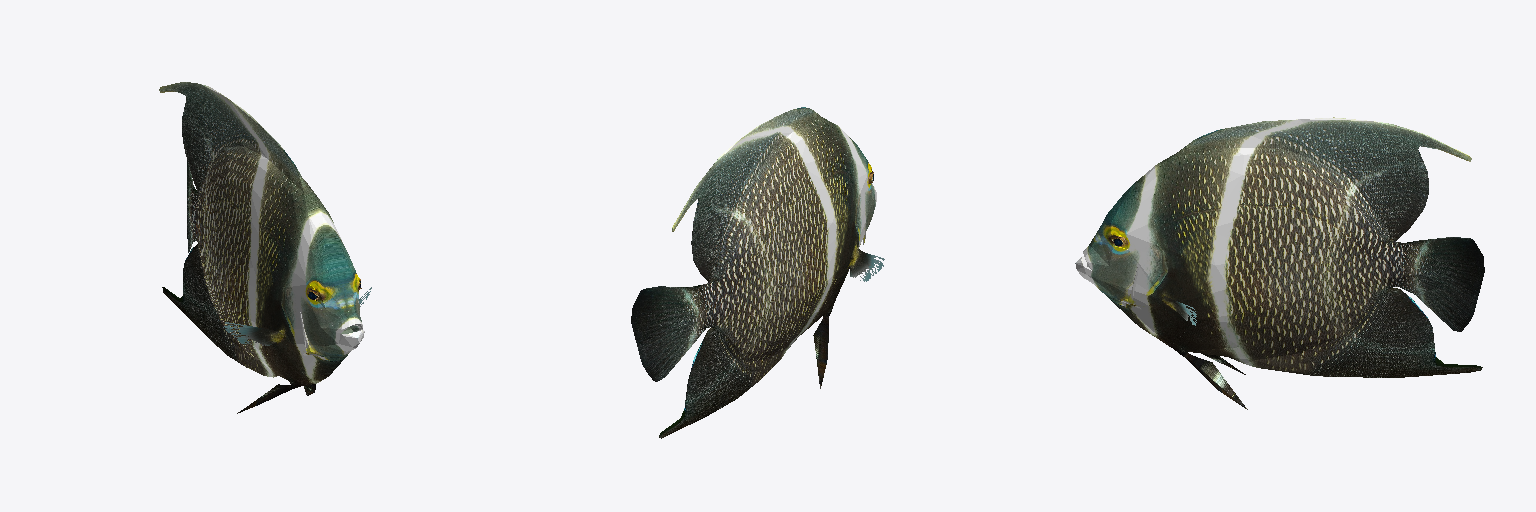
3 renders of one model, left to right at view 1: azimuth 30°, elevation 25°; view 2: azimuth 150°, elevation 25°; view 3: azimuth 270°, elevation 25°, orthographic.
Visible parts, largest first — view 1: Pomacanthus-paru; view 2: Pomacanthus-paru; view 3: Pomacanthus-paru.
Boxes of the visible parts, <box> form: Pomacanthus-paru: <box>159,82,371,413</box>; Pomacanthus-paru: <box>631,107,884,438</box>; Pomacanthus-paru: <box>1075,117,1484,409</box>.
Bounding box in the file's own units: 93.32 × 166 × 223.
1 materials, 1 textured.